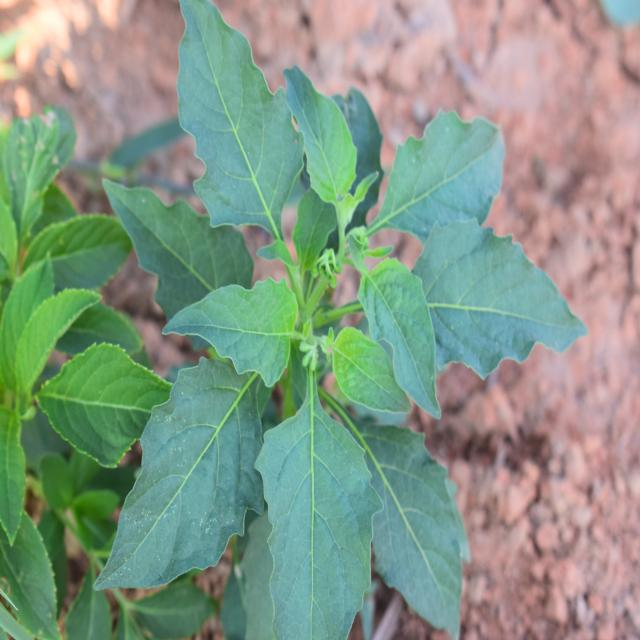Black_nightshade: (120, 32, 520, 622)
